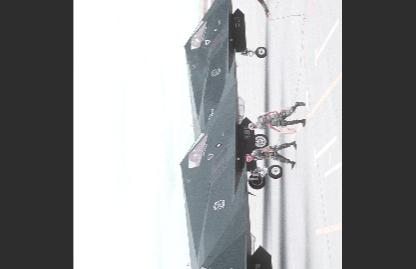E7: (174, 0, 270, 268), (179, 47, 286, 268), (172, 152, 310, 268)
